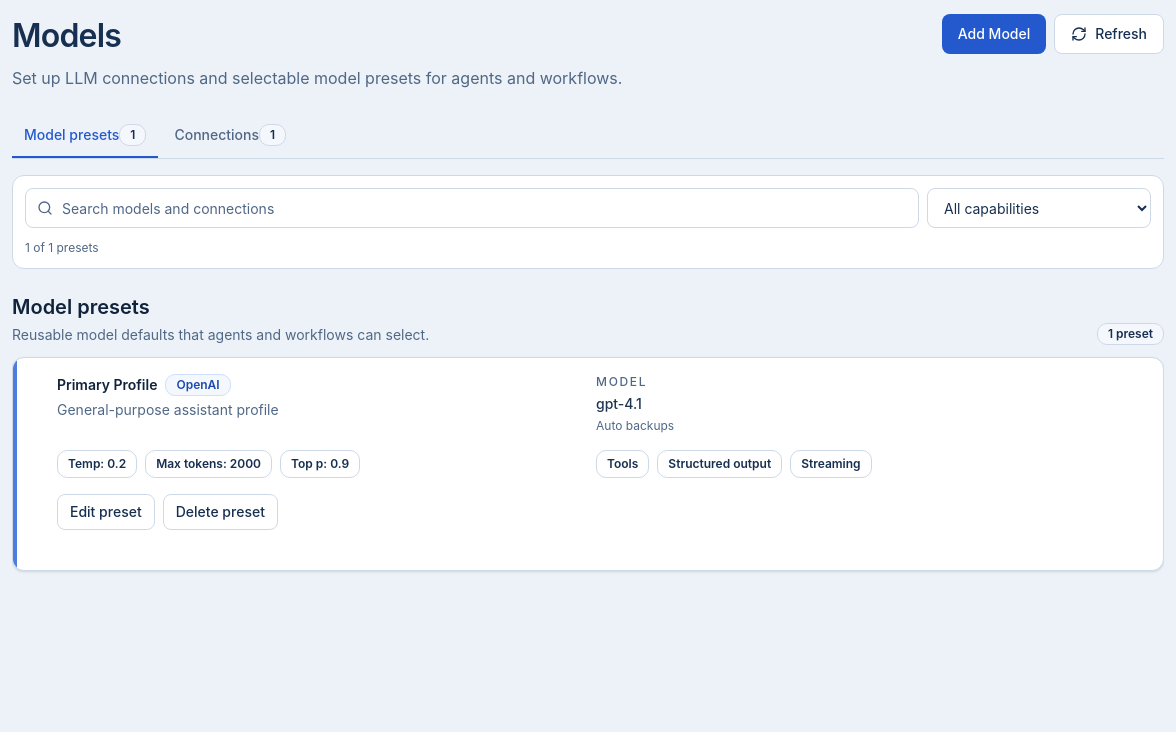
Test case: BehaviorProfilesWorkspace › filters actual model capabilities without changing the preset
Expected: the text "Primary Profile" is shown, [57,375,158,395]
Select "Vision" in the dropdown named "Model capability": (1039, 208) [927,188,1151,228]
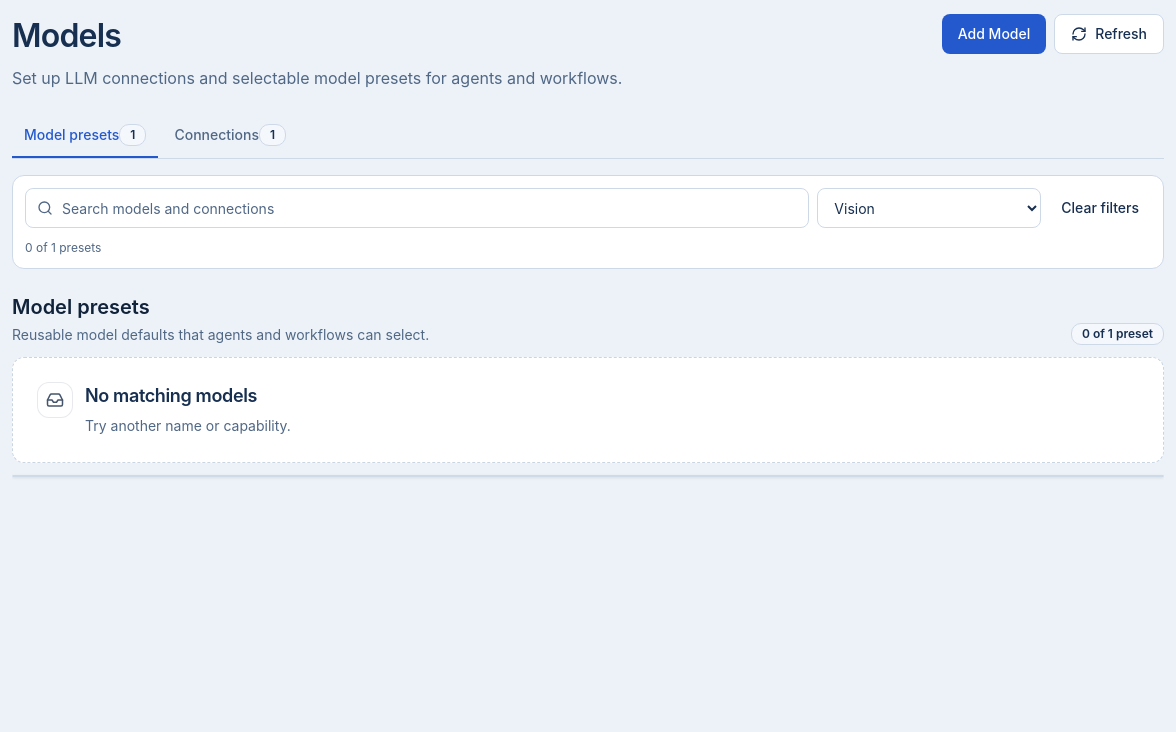
Expected: the heading "No matching models" is shown, [85,385,257,406]
Select "Tool calling" in the dropdown named "Model capability": (929, 208) [817,188,1041,228]
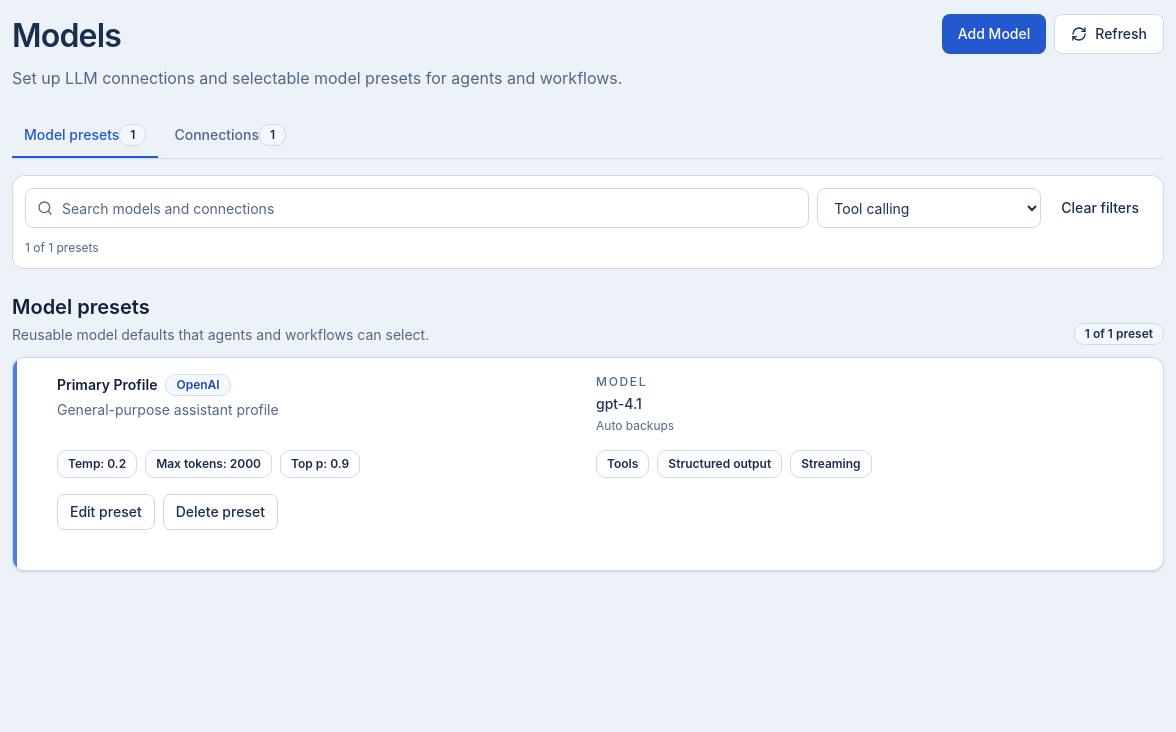
Expected: the text "Primary Profile" is shown, [57,375,158,395]
